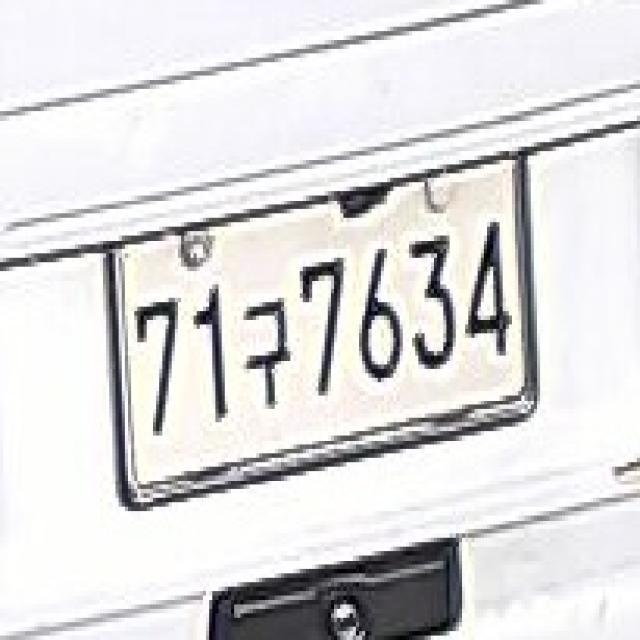plat: (109, 148, 540, 509)
